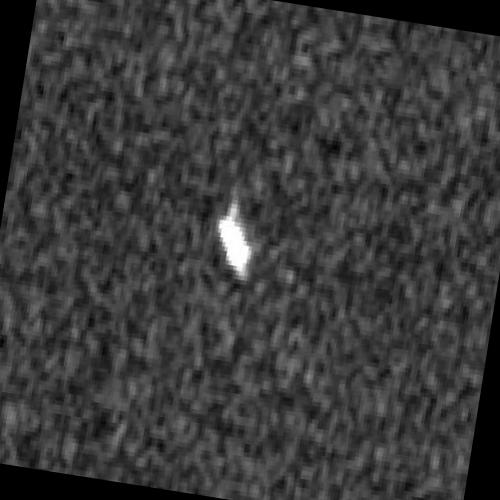ship: (216, 212, 253, 278)
